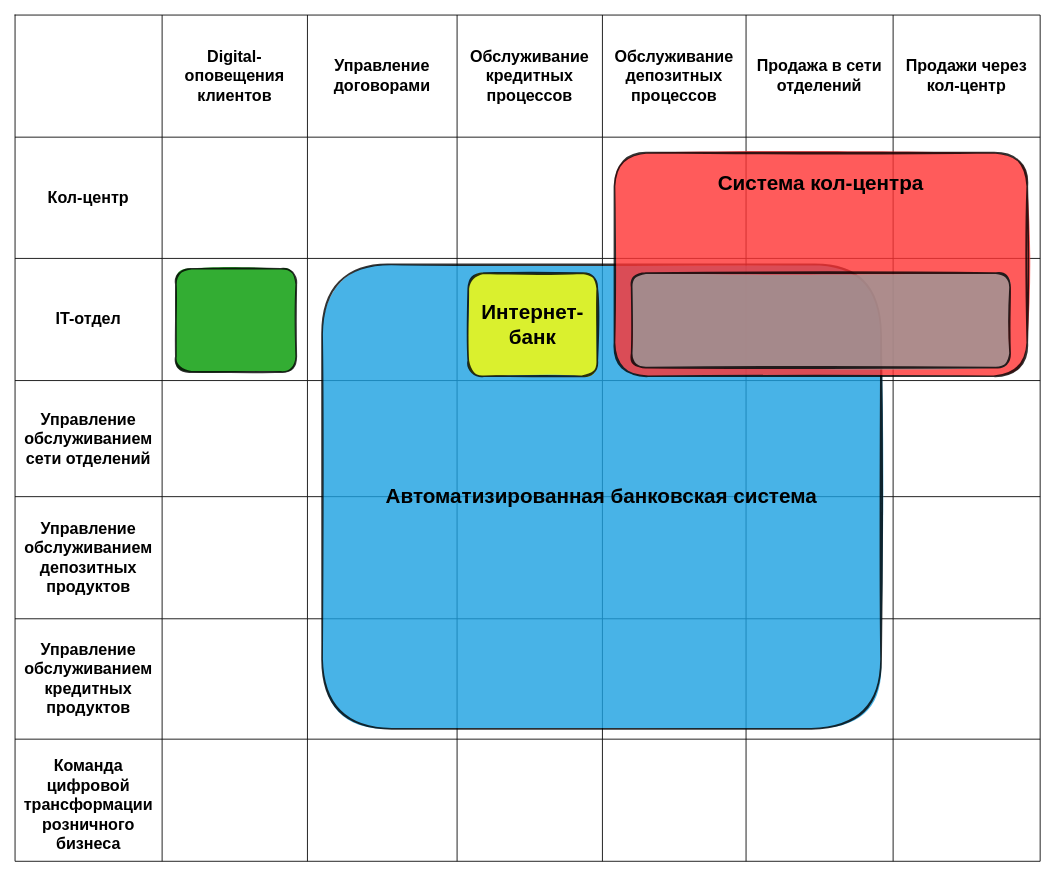
This 1055x876 diagram has some shape labels left out. The shapes that lost their labels are listed below. From the top down, each one's box as (x1, y1, x2, y2) in pixels, then its label:
(175, 267, 297, 372): Сайт
(630, 272, 1010, 368): СМС-шлюз
